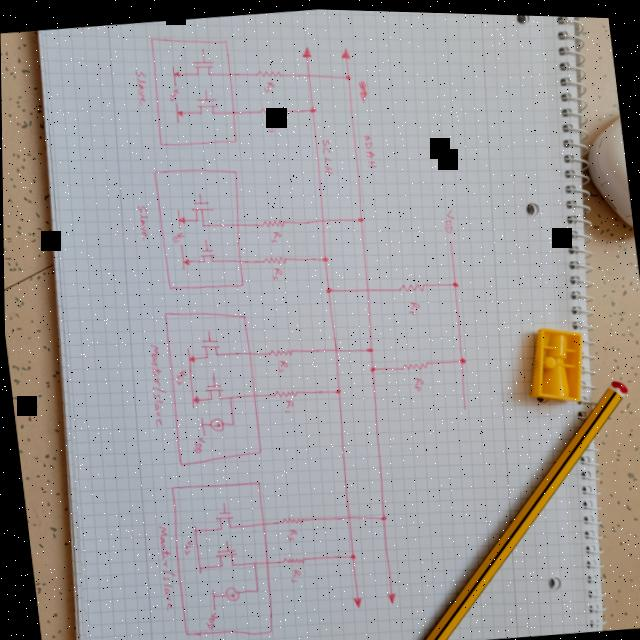crossover: (303, 67, 312, 76), (363, 281, 371, 290), (344, 509, 353, 517), (332, 342, 339, 351), (319, 213, 326, 221)
junction: (456, 351, 468, 362), (307, 100, 318, 111), (363, 341, 374, 352), (450, 274, 460, 286), (323, 281, 333, 292), (343, 68, 353, 79), (346, 547, 356, 557), (367, 360, 376, 370), (355, 211, 365, 220), (377, 509, 386, 518), (320, 251, 329, 260), (332, 383, 341, 392), (248, 556, 256, 564), (195, 561, 203, 569), (460, 400, 468, 408), (252, 584, 259, 592), (226, 391, 234, 398), (197, 418, 204, 426), (191, 524, 198, 531), (209, 589, 216, 596), (228, 417, 235, 424)
resistor: (398, 355, 431, 369), (397, 276, 427, 291), (260, 101, 287, 115), (258, 214, 284, 228), (256, 63, 282, 77), (266, 343, 293, 356), (277, 511, 303, 524), (262, 250, 287, 263), (272, 384, 297, 396), (279, 551, 304, 563)
source: (187, 351, 196, 362), (192, 391, 200, 403), (171, 66, 180, 75), (181, 255, 190, 264), (175, 106, 184, 115), (177, 213, 186, 222)
terminal: (185, 344, 196, 406), (191, 521, 200, 572), (177, 241, 187, 267), (348, 590, 363, 606), (173, 205, 182, 229), (197, 412, 206, 436), (338, 43, 352, 58), (300, 42, 313, 56), (385, 586, 396, 602), (173, 99, 181, 120), (169, 62, 177, 83), (209, 587, 214, 606), (445, 234, 453, 242), (222, 536, 230, 543), (219, 497, 226, 505), (209, 367, 216, 374), (204, 324, 211, 331), (202, 84, 209, 91), (199, 44, 206, 51), (202, 235, 208, 241), (196, 188, 202, 194)
text: (142, 339, 169, 429), (152, 518, 177, 609), (319, 134, 336, 172), (133, 66, 150, 103), (362, 128, 377, 166), (136, 201, 150, 236), (441, 204, 457, 230), (167, 82, 183, 104), (173, 364, 187, 384), (357, 76, 369, 99), (190, 434, 206, 451), (410, 370, 424, 388), (181, 535, 194, 554), (203, 610, 217, 627), (280, 395, 294, 412), (266, 117, 281, 132), (407, 296, 421, 312), (287, 564, 301, 579), (275, 355, 289, 370), (262, 77, 277, 91), (172, 227, 185, 243), (270, 263, 283, 279), (284, 525, 297, 539), (268, 227, 281, 240)
transistor: (189, 194, 216, 229), (212, 543, 239, 567), (211, 507, 236, 531), (198, 333, 221, 357), (196, 92, 220, 114), (191, 54, 216, 75), (202, 378, 225, 400), (196, 243, 217, 263)
